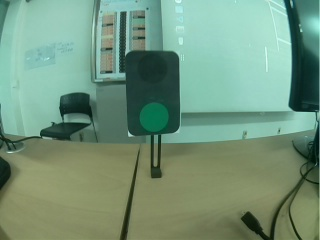green_light: (125, 52, 181, 138)
